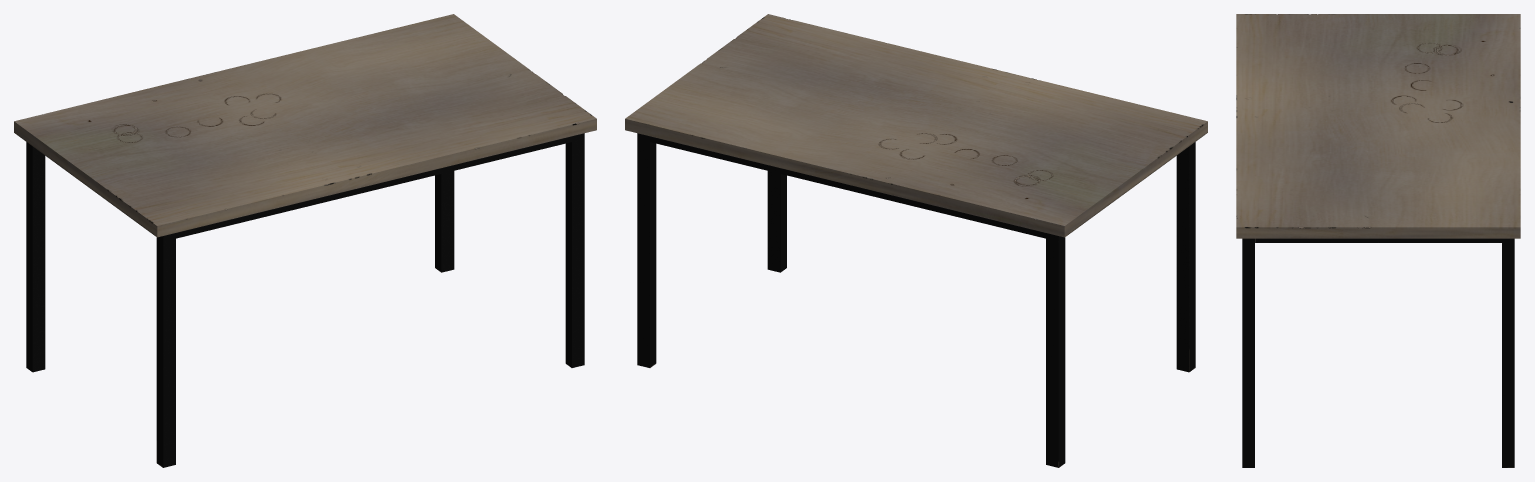
Rendered from Table1.fbx.
3 renders of one model, left to right at view 1: azimuth 30°, elevation 25°; view 2: azimuth 150°, elevation 25°; view 3: azimuth 270°, elevation 25°, orthographic.
Parts seen in each view (by area): view 1: ExportTable; view 2: ExportTable; view 3: ExportTable.
Part boxes in pixels (<box>): ExportTable: <box>14,14,596,467</box>; ExportTable: <box>625,14,1207,467</box>; ExportTable: <box>1236,14,1520,467</box>.
Size of the model in its own units: 161 by 86.15 by 90.71.
